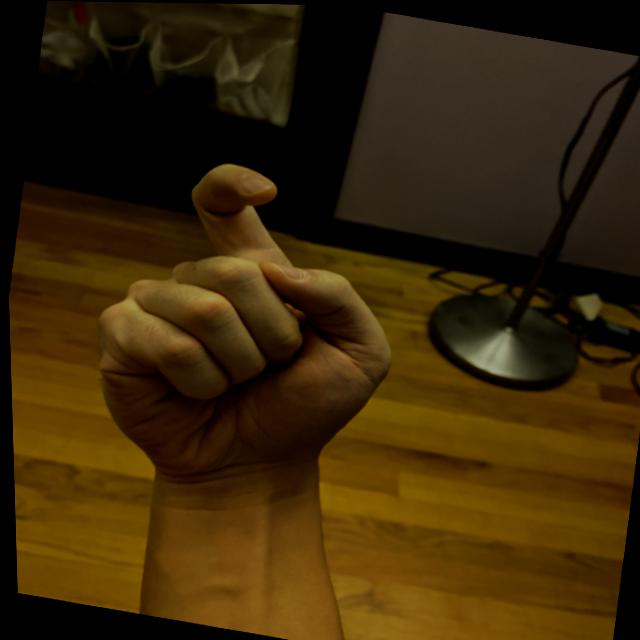X: (57, 135, 429, 517)
